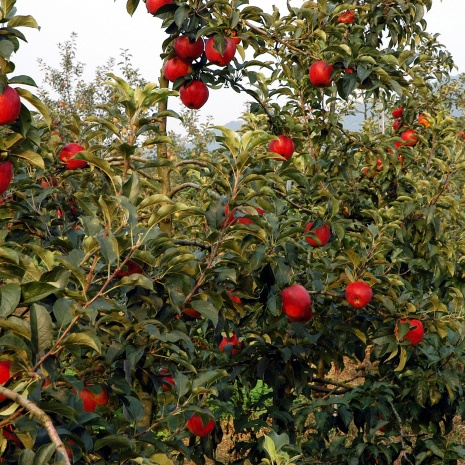apple: (65, 385, 108, 418), (278, 287, 312, 323), (1, 361, 27, 406), (205, 34, 238, 66), (1, 81, 21, 128), (341, 278, 371, 309), (178, 79, 209, 108), (161, 56, 192, 84), (60, 144, 88, 171), (175, 34, 202, 62), (303, 220, 332, 246), (186, 411, 218, 434), (270, 134, 294, 163), (396, 319, 423, 344), (217, 333, 241, 358), (310, 60, 332, 86), (1, 158, 13, 197), (147, 1, 176, 17), (398, 130, 417, 145), (335, 12, 353, 25), (392, 105, 402, 116), (395, 120, 402, 131)
